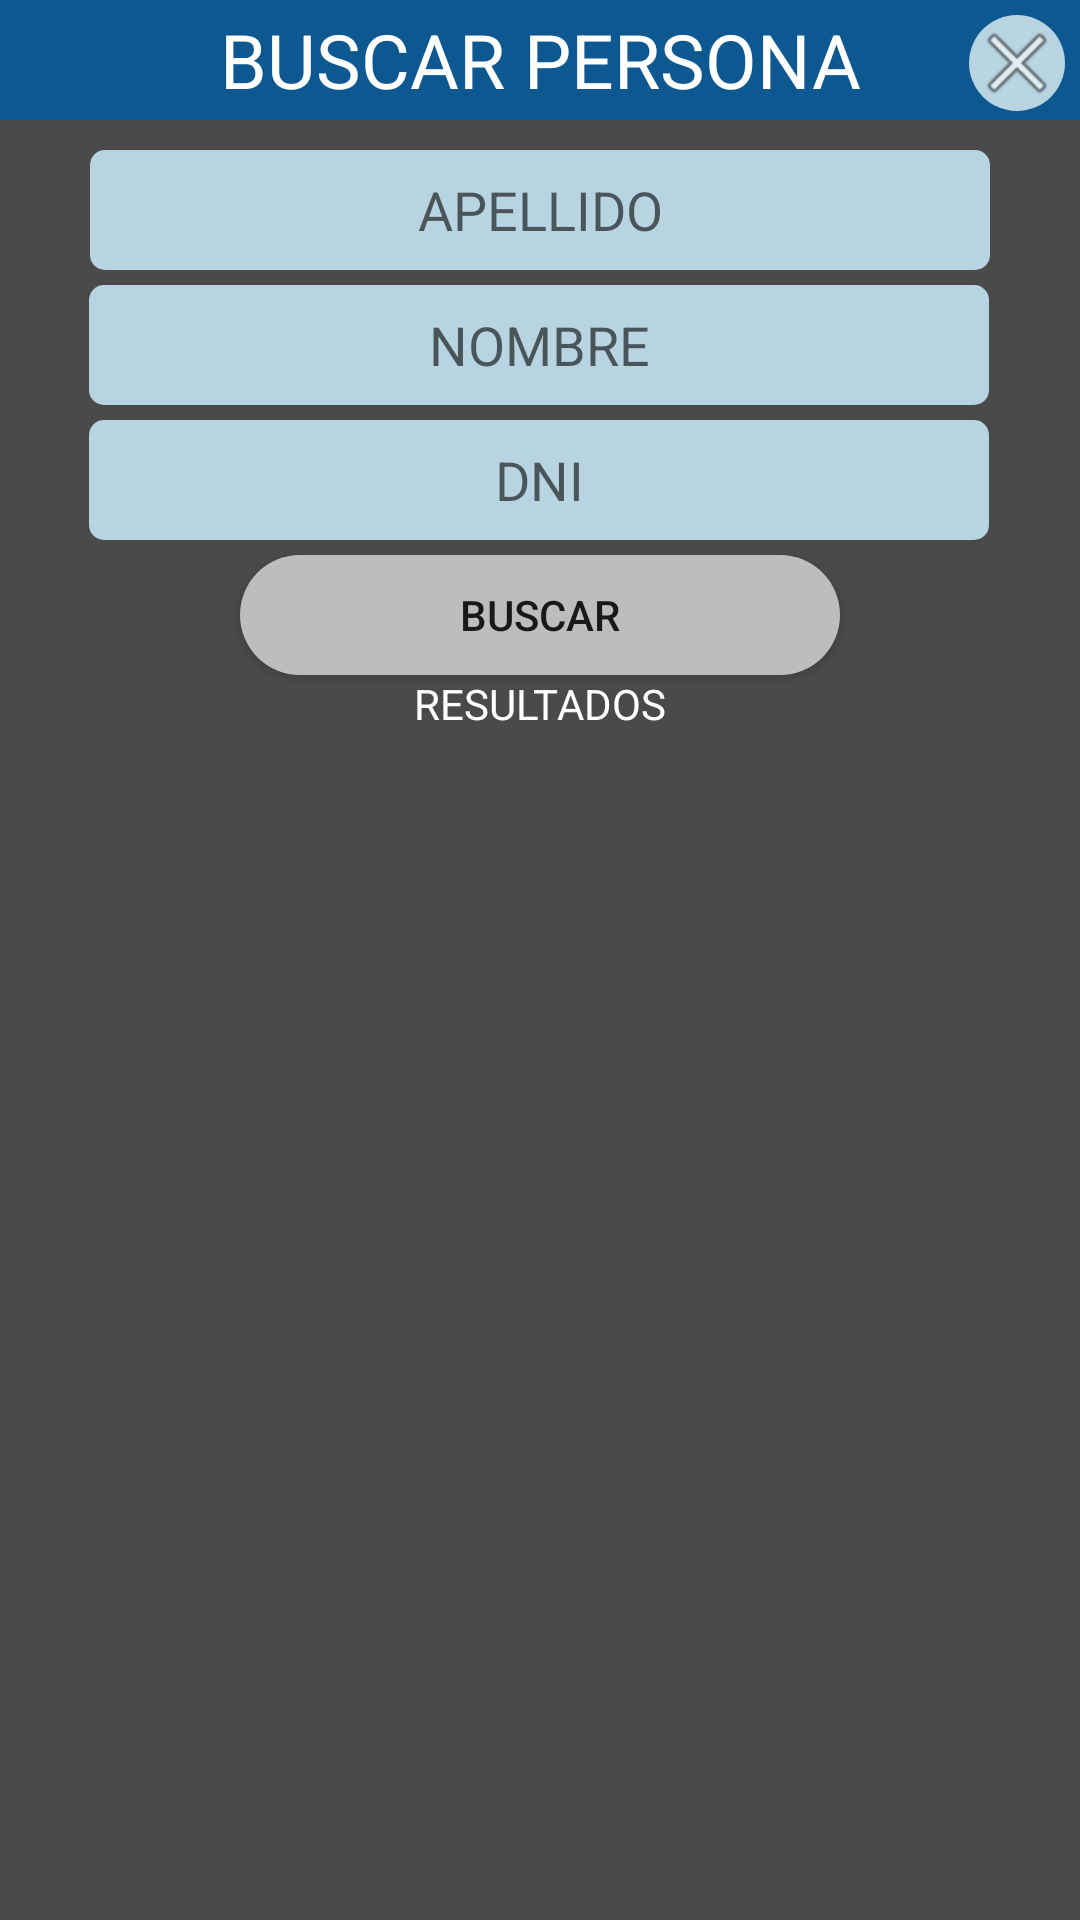

Icon click points for this 1080px x 1920px phone screenshot, format point (x, y):
close clear cancel: point (1017, 63)
